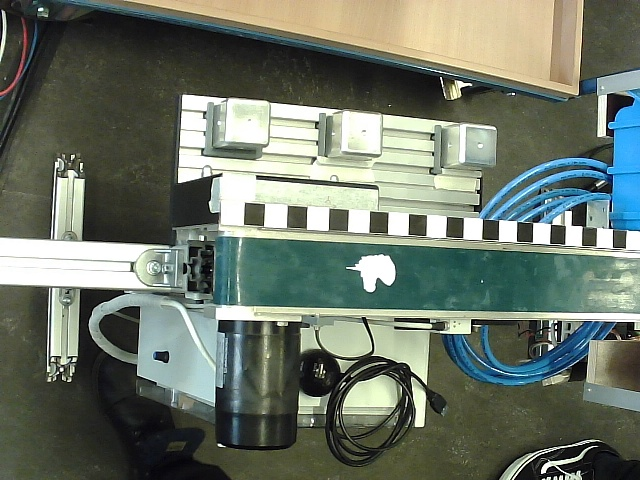unicorn: (345, 253, 397, 295)
